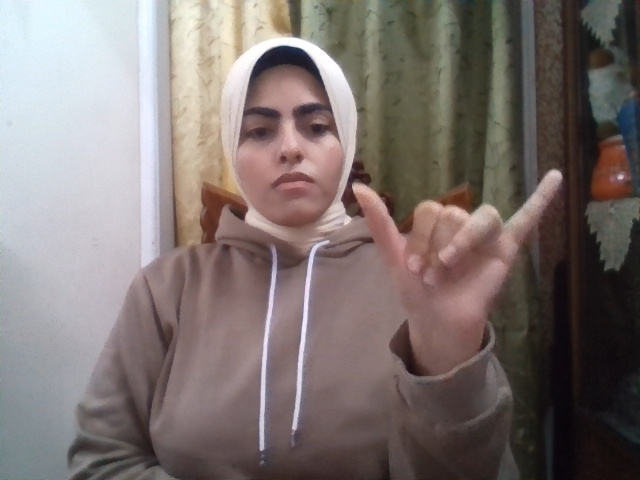Y: (352, 169, 562, 333)
